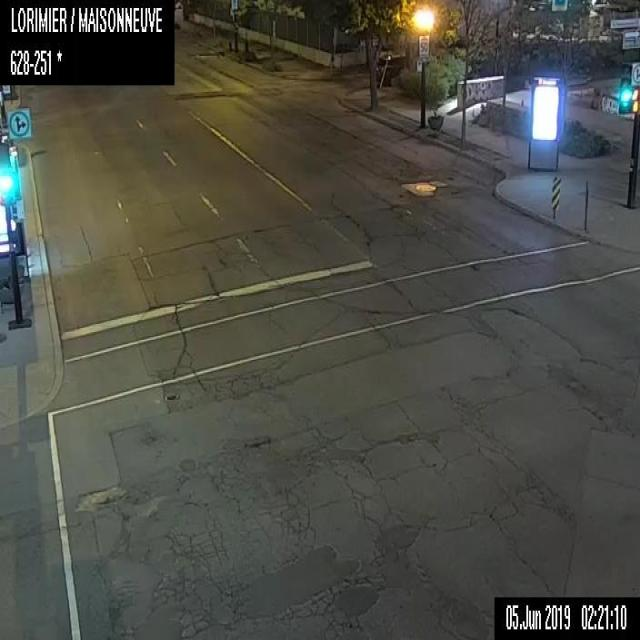vehicle: (375, 53, 406, 85)
